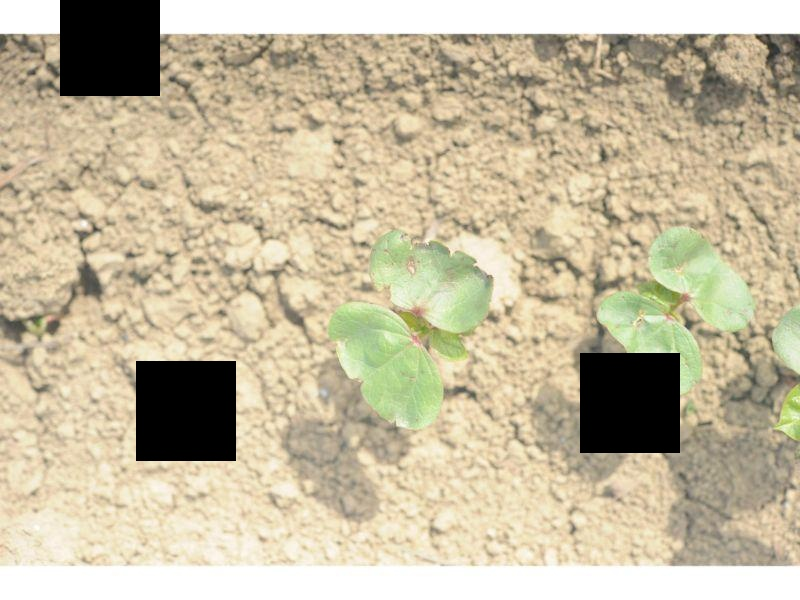cotton: (326, 227, 493, 432), (595, 224, 755, 398)
